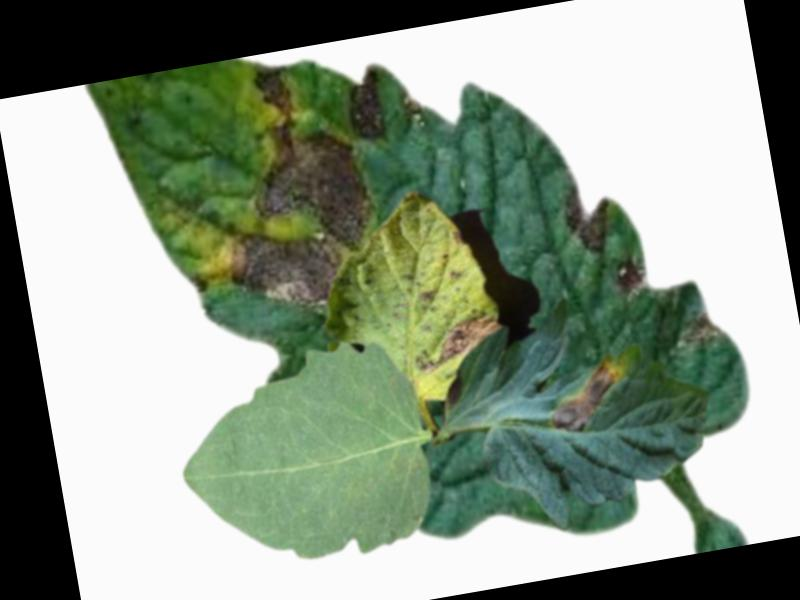Early_blight: (190, 48, 387, 319), (540, 357, 628, 435), (404, 307, 506, 373), (558, 179, 616, 261), (343, 76, 390, 146), (614, 259, 650, 295), (413, 284, 430, 304)
healthy: (167, 331, 444, 582)
